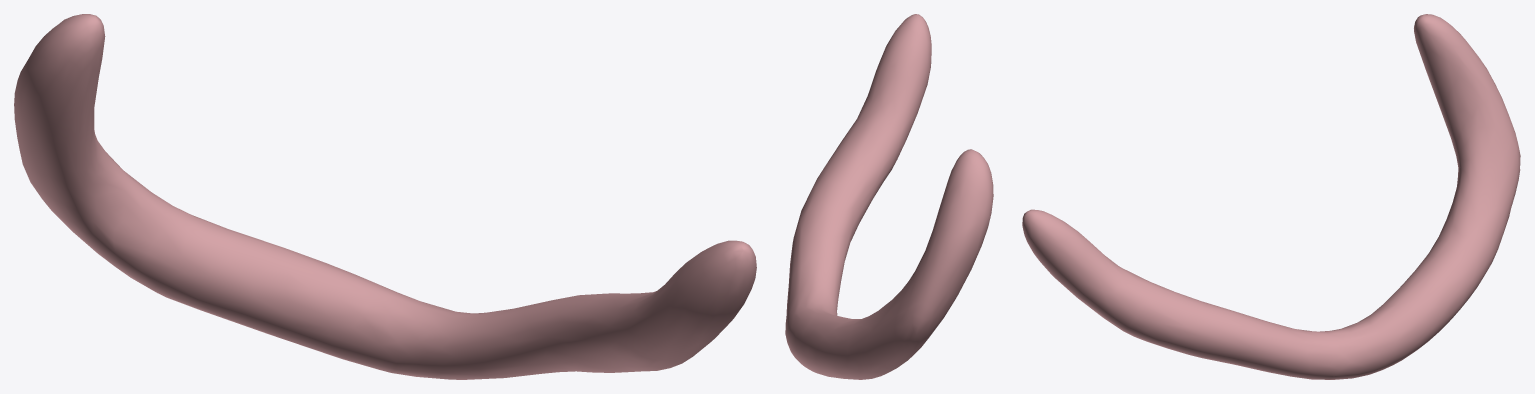
Rendered from fma84043-l_mm3228.glb.
3 views of the same model, side by side, from view 1: azimuth 30°, elevation 25°; view 2: azimuth 150°, elevation 25°; view 3: azimuth 270°, elevation 25° (orthographic). The views are drawn at different scales.
Parts seen in each view (by area): view 1: FMA84043-L_MM3228; view 2: FMA84043-L_MM3228; view 3: FMA84043-L_MM3228.
Boxes of the visible parts, x1,y1,x2,y2 form: FMA84043-L_MM3228: [14, 14, 756, 379]; FMA84043-L_MM3228: [785, 14, 993, 379]; FMA84043-L_MM3228: [1022, 14, 1520, 379].
Bounding box in the file's own units: 0.0168 × 0.0142 × 0.0241.
